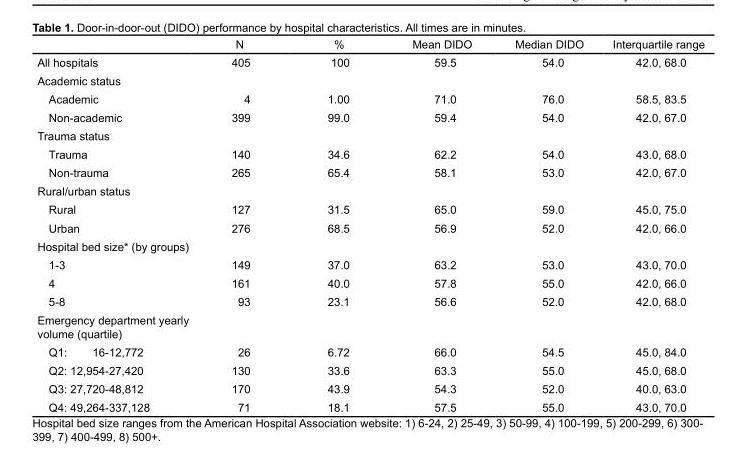table: (36, 37, 704, 413)
table column: (36, 37, 209, 413), (380, 37, 492, 413), (597, 37, 704, 413), (492, 37, 597, 413), (288, 37, 380, 413), (209, 37, 288, 413)
table column header: (36, 37, 704, 52)
table projected row header: (36, 310, 704, 342), (36, 236, 704, 255), (36, 71, 704, 89), (36, 126, 704, 144), (36, 181, 704, 199)
table row: (36, 310, 704, 342), (36, 52, 704, 71), (36, 107, 704, 126), (36, 162, 704, 181), (36, 199, 704, 218), (36, 236, 704, 255), (36, 291, 704, 310), (36, 360, 704, 379), (36, 71, 704, 89), (36, 89, 704, 107), (36, 126, 704, 144), (36, 144, 704, 162), (36, 181, 704, 199), (36, 218, 704, 236), (36, 255, 704, 273), (36, 273, 704, 291), (36, 342, 704, 360), (36, 379, 704, 397), (36, 397, 704, 413), (36, 37, 704, 52)
